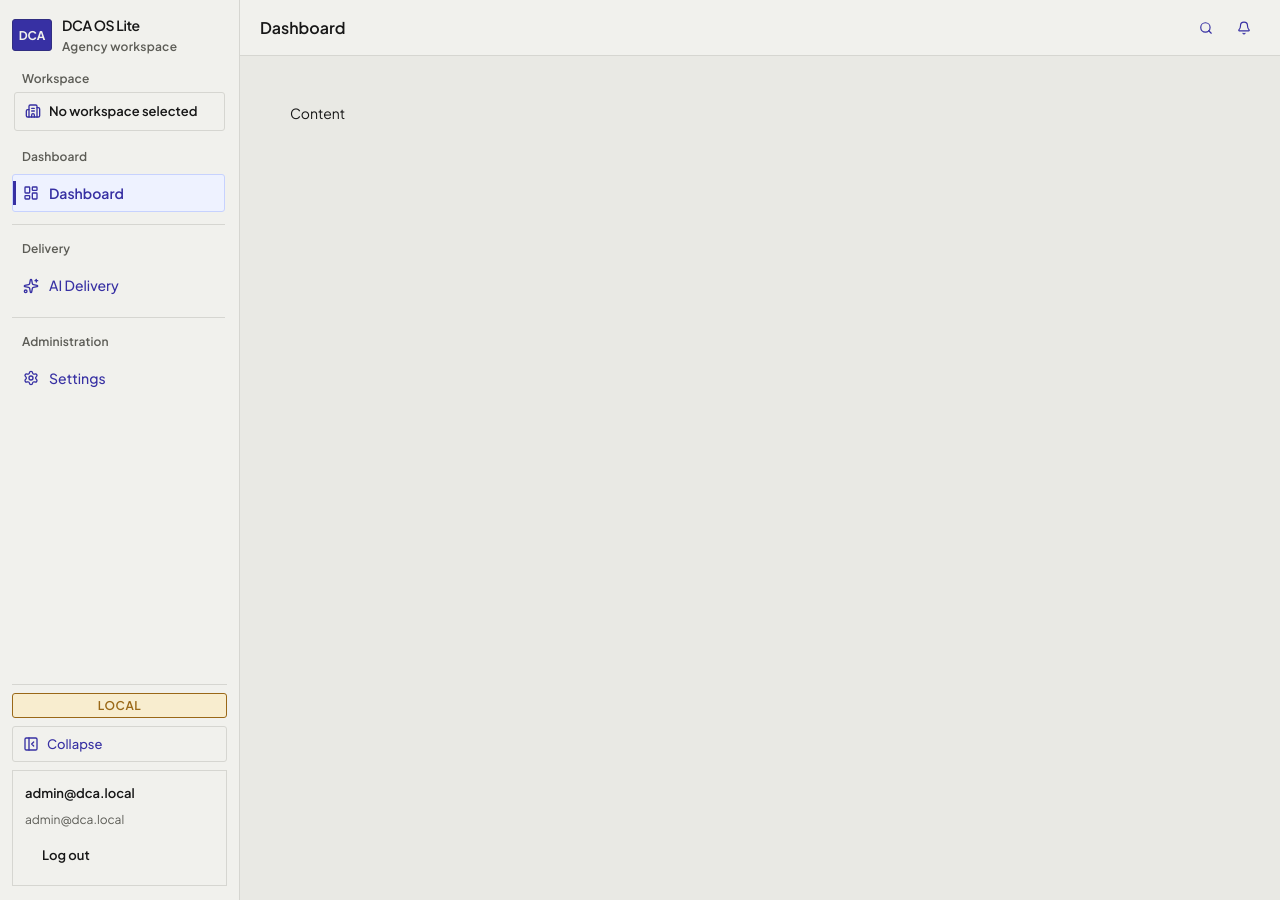
Test: AppLayout public contract › opens search overlay as UI-only with no fake results
Click the button named "Open search" at (1206, 28), box [1190,12,1222,44]
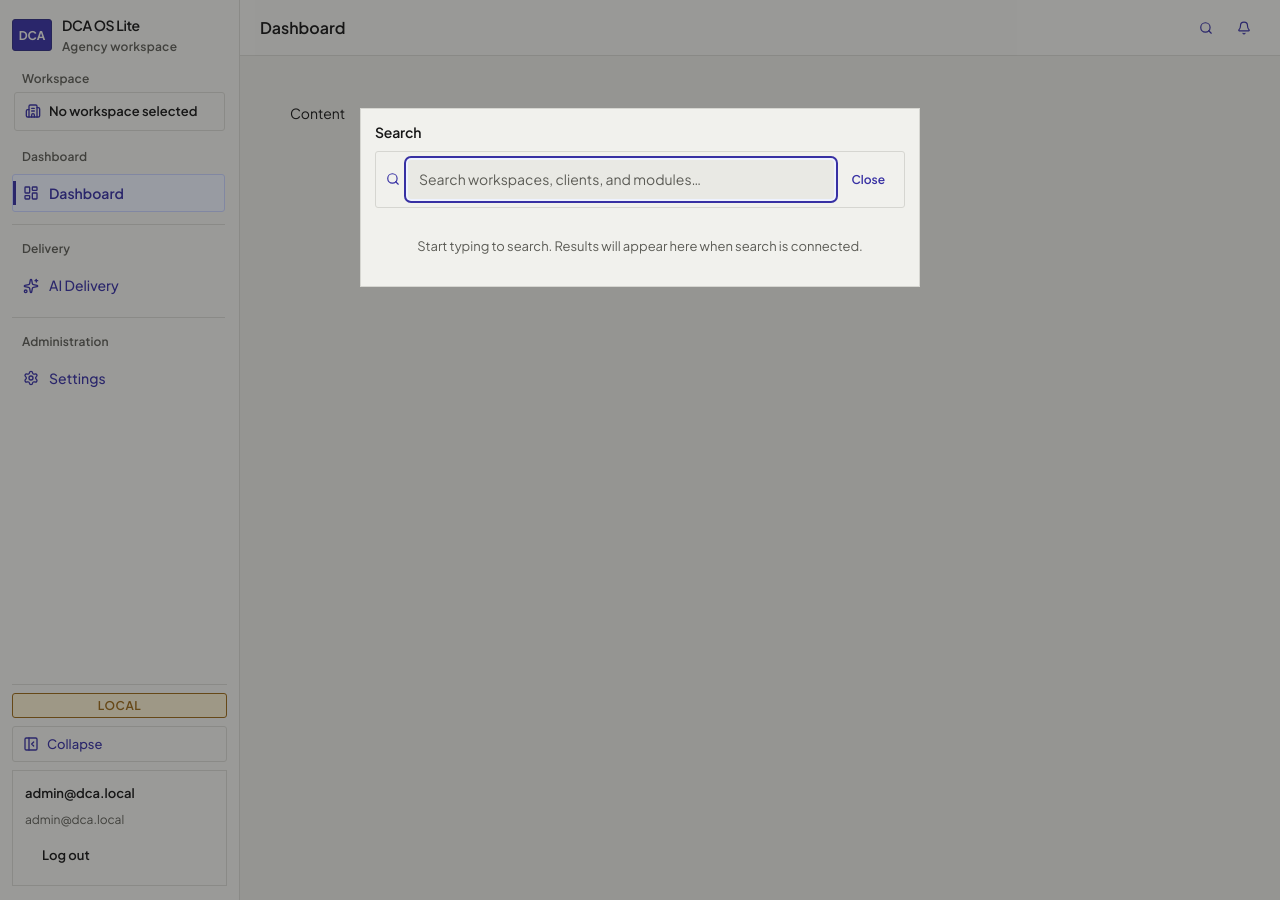
Now the text "Results will appear here when search is connected" is shown, box [417,238,863,254]
Type "acme" into the search field named "Search query" at (621, 179), box [408,160,834,199]
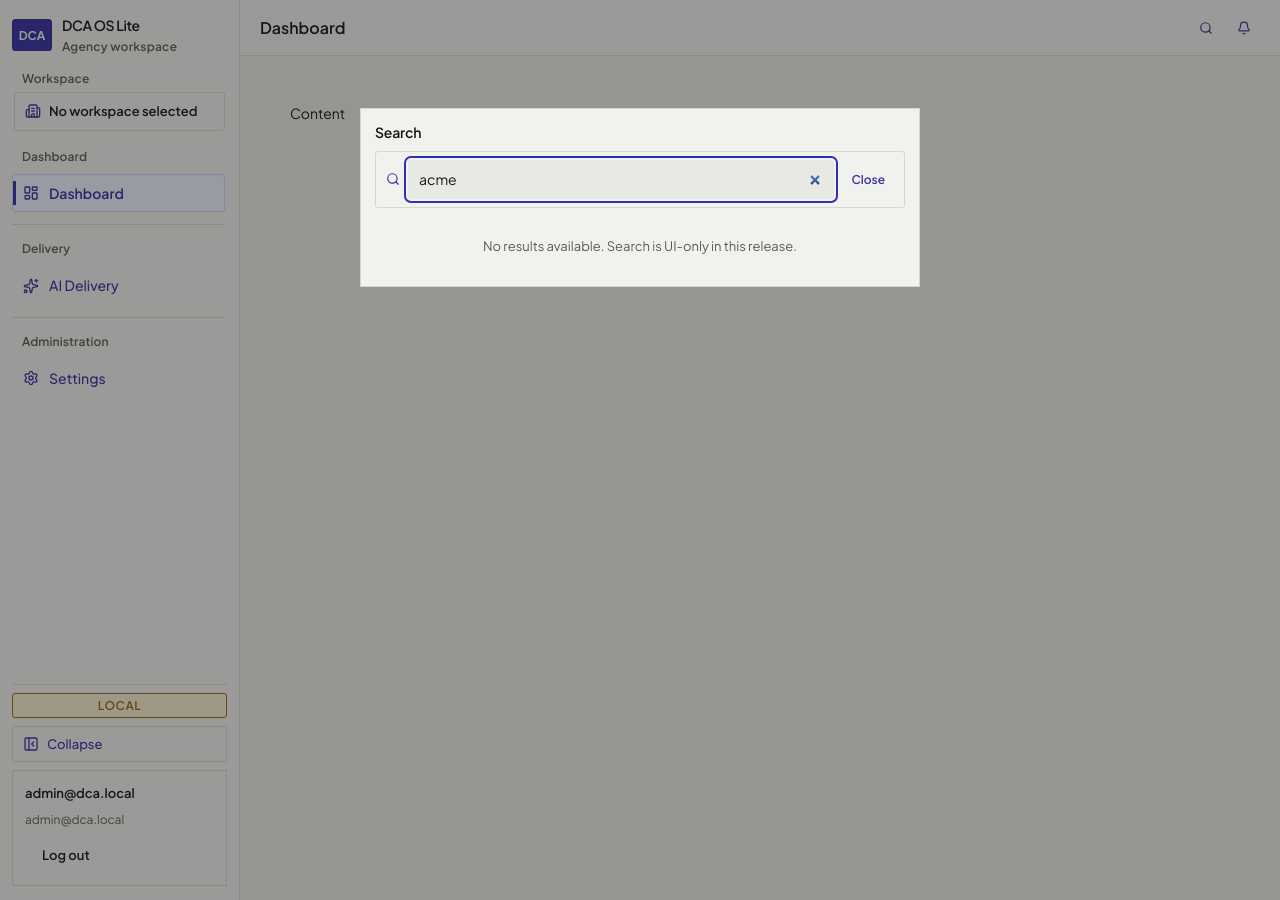
Now the text "No results available. Search is UI-only in this release." is shown, box [483,238,797,254]
